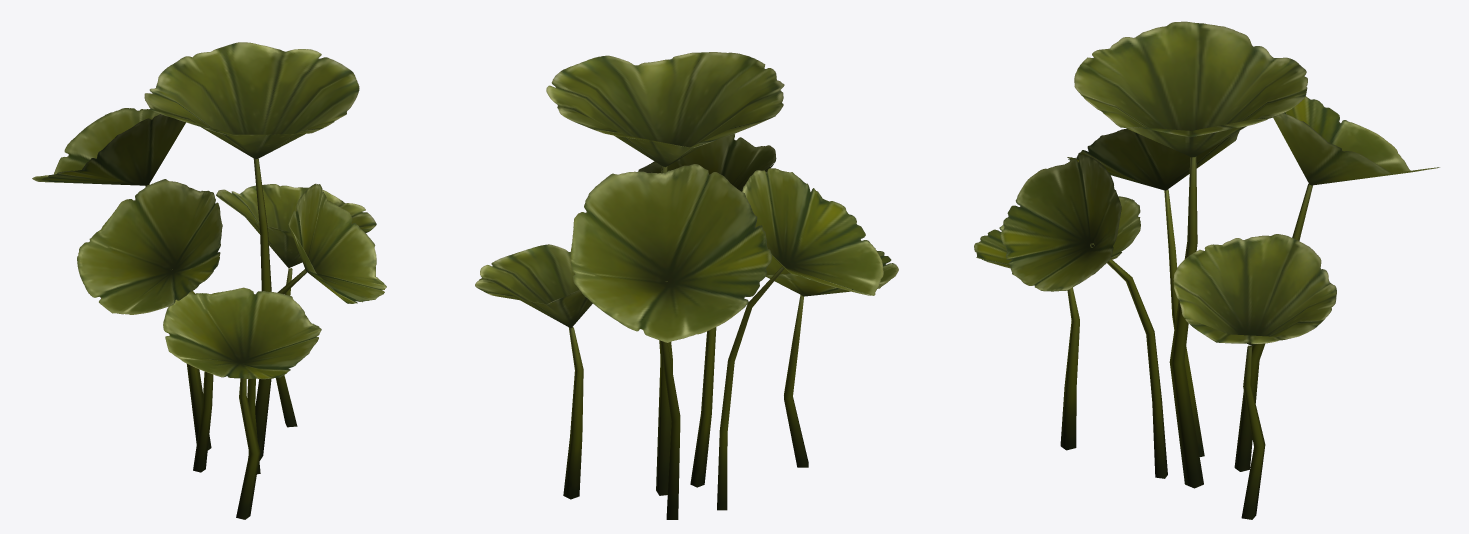
Rendered from Wetlands_Plant_01.fbx.
3 renders of one model, left to right at view 1: azimuth 30°, elevation 25°; view 2: azimuth 150°, elevation 25°; view 3: azimuth 270°, elevation 25°, orthographic. The views are drawn at different scales.
Visible parts, largest first — view 1: Wetlands_Plant_01; view 2: Wetlands_Plant_01; view 3: Wetlands_Plant_01.
Boxes of the visible parts, x1,y1,x2,y2 form: Wetlands_Plant_01: (32,42,386,519); Wetlands_Plant_01: (475,52,898,519); Wetlands_Plant_01: (974,21,1439,519).
Bounding box in the file's own units: 4.53 × 4.62 × 5.11.
Materials: 1 (1 with a texture image).
